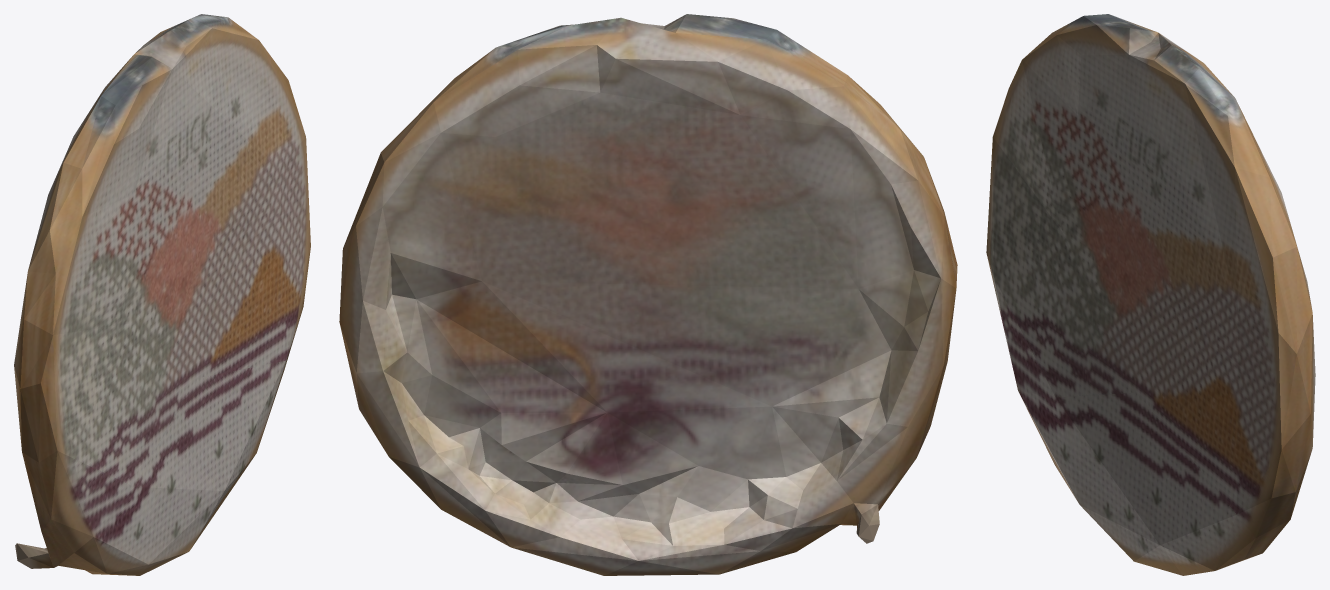
The picture shows the model from 3 angles, left to right: view 1: azimuth 30°, elevation 25°; view 2: azimuth 150°, elevation 25°; view 3: azimuth 270°, elevation 25°; orthographic projection. The views are drawn at different scales.
Parts seen in each view (by area): view 1: Stickerei Fuck_0.3k_512; view 2: Stickerei Fuck_0.3k_512; view 3: Stickerei Fuck_0.3k_512.
Boxes of the visible parts, x1,y1,x2,y2 form: Stickerei Fuck_0.3k_512: [14, 14, 310, 575]; Stickerei Fuck_0.3k_512: [339, 14, 957, 575]; Stickerei Fuck_0.3k_512: [986, 14, 1315, 575].
Size of the model in its own units: 0.0946 by 0.1095 by 0.0629.
Materials: 1 (1 with a texture image).
